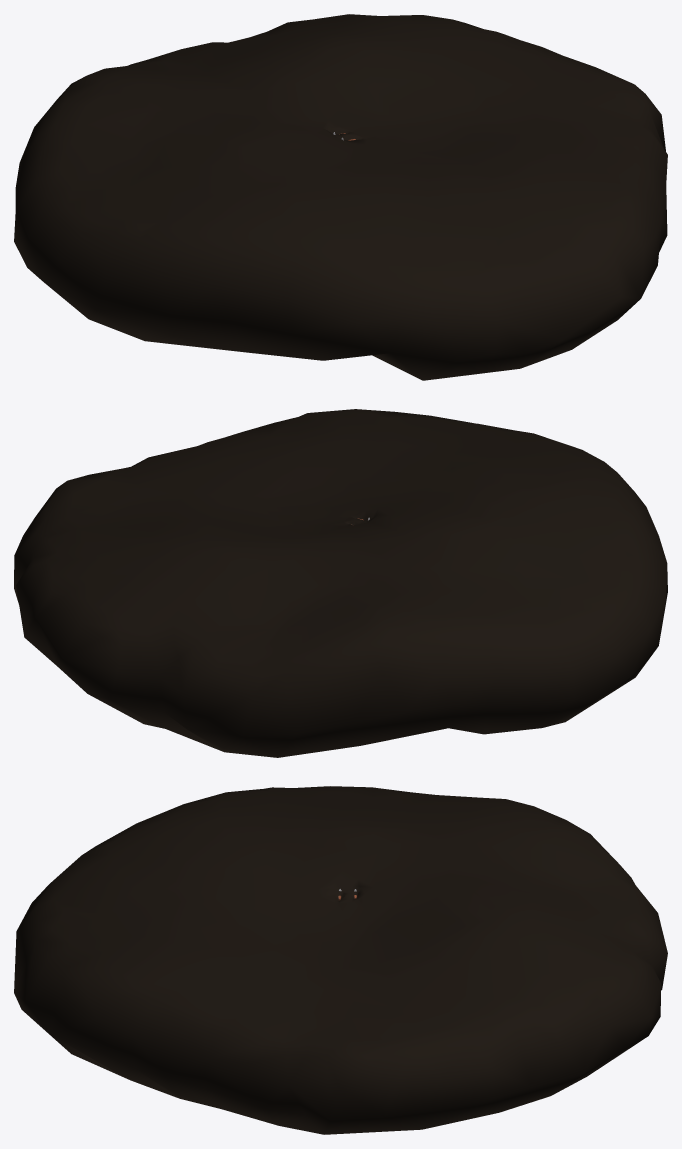
Rendered from terrain.fbx.
3 renders of one model, top to bottom at view 1: azimuth 30°, elevation 25°; view 2: azimuth 150°, elevation 25°; view 3: azimuth 270°, elevation 25°, orthographic. The views are drawn at different scales.
Visible parts, largest first — view 1: terrain; view 2: terrain; view 3: terrain.
Boxes of the visible parts, bbox=[...] form: terrain: bbox=[14, 14, 667, 380]; terrain: bbox=[14, 409, 667, 757]; terrain: bbox=[14, 786, 667, 1134].
Bounding box in the file's own units: 335 × 86.41 × 333.
6 materials, 1 textured.
